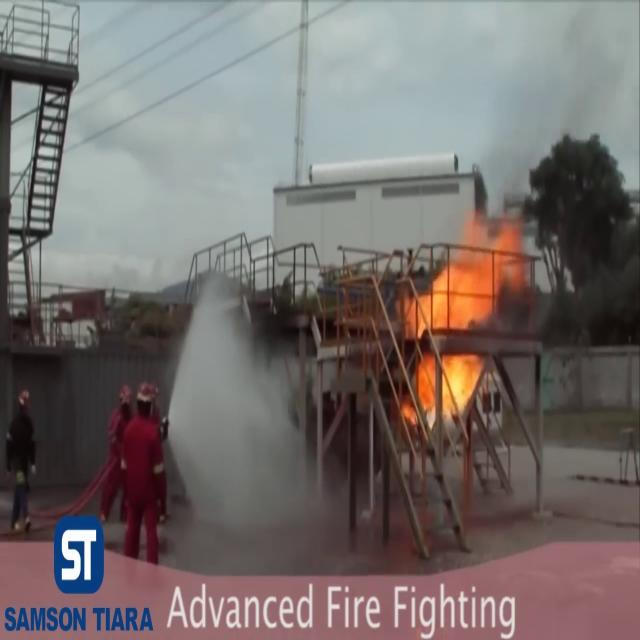Fire: (407, 213, 529, 435)
